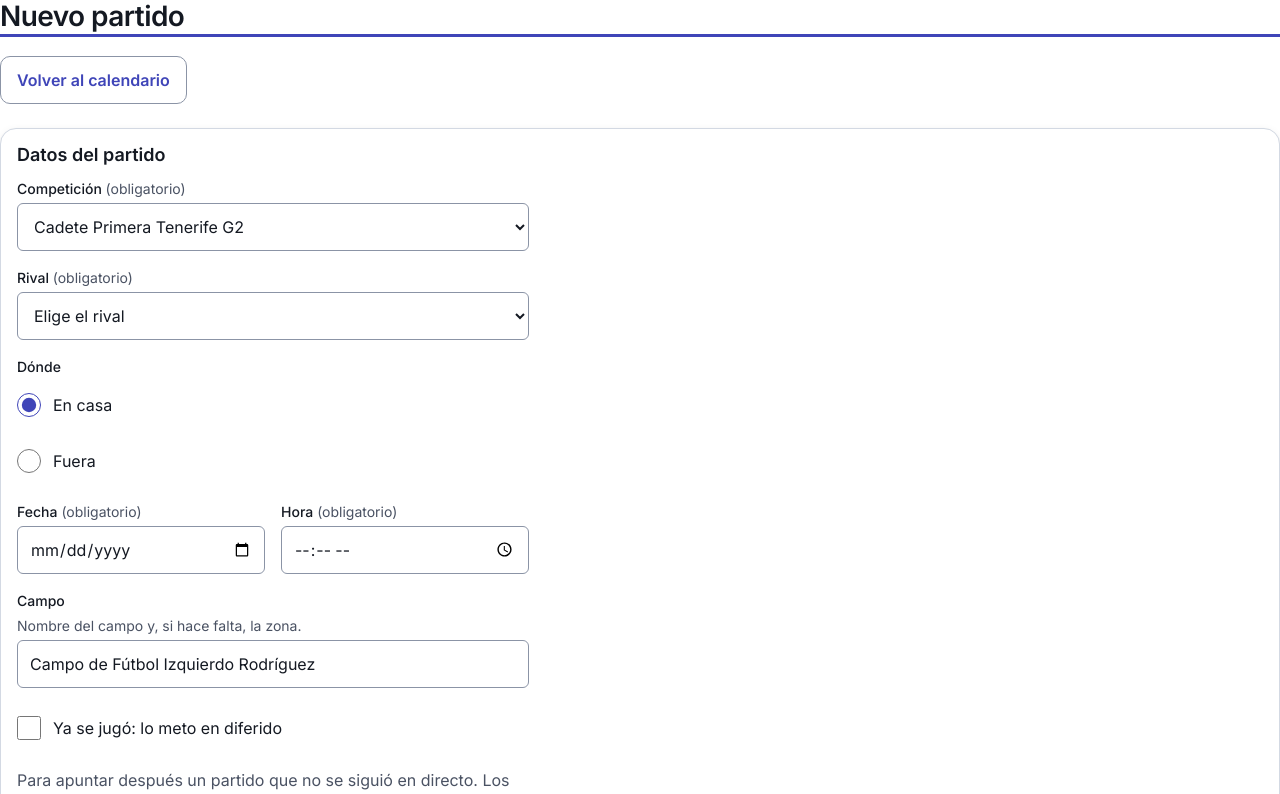
Scenario: A10 · Nuevo partido › con una sola competición ya elegida y el campo de casa del club propuesto
This screenshot has width=1280, height=794.
Expected: the dropdown labelled "Competición (obligatorio)" shows "Cadete Primera Tenerife G2", [17, 203, 529, 251]
Expected: the field labelled "Campo" holds "Campo de Fútbol Izquierdo Rodríguez", [17, 640, 529, 688]
Select "UD Orotava" in the dropdown labelled "Rival (obligatorio)" at (273, 316), box [17, 292, 529, 340]
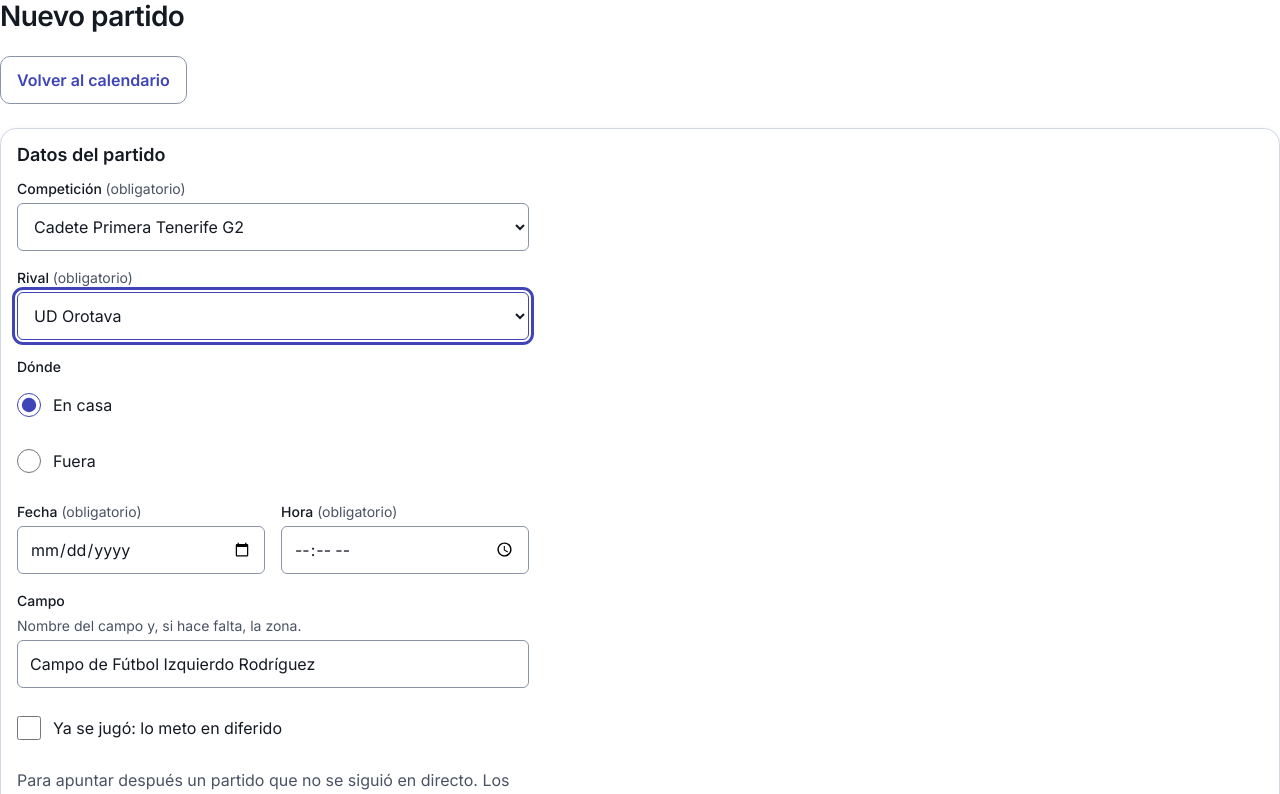
Type "2099-11-08" into the date field labelled "Fecha (obligatorio)".
click(141, 550); type("2099-11-08")  # box [17, 526, 265, 574]
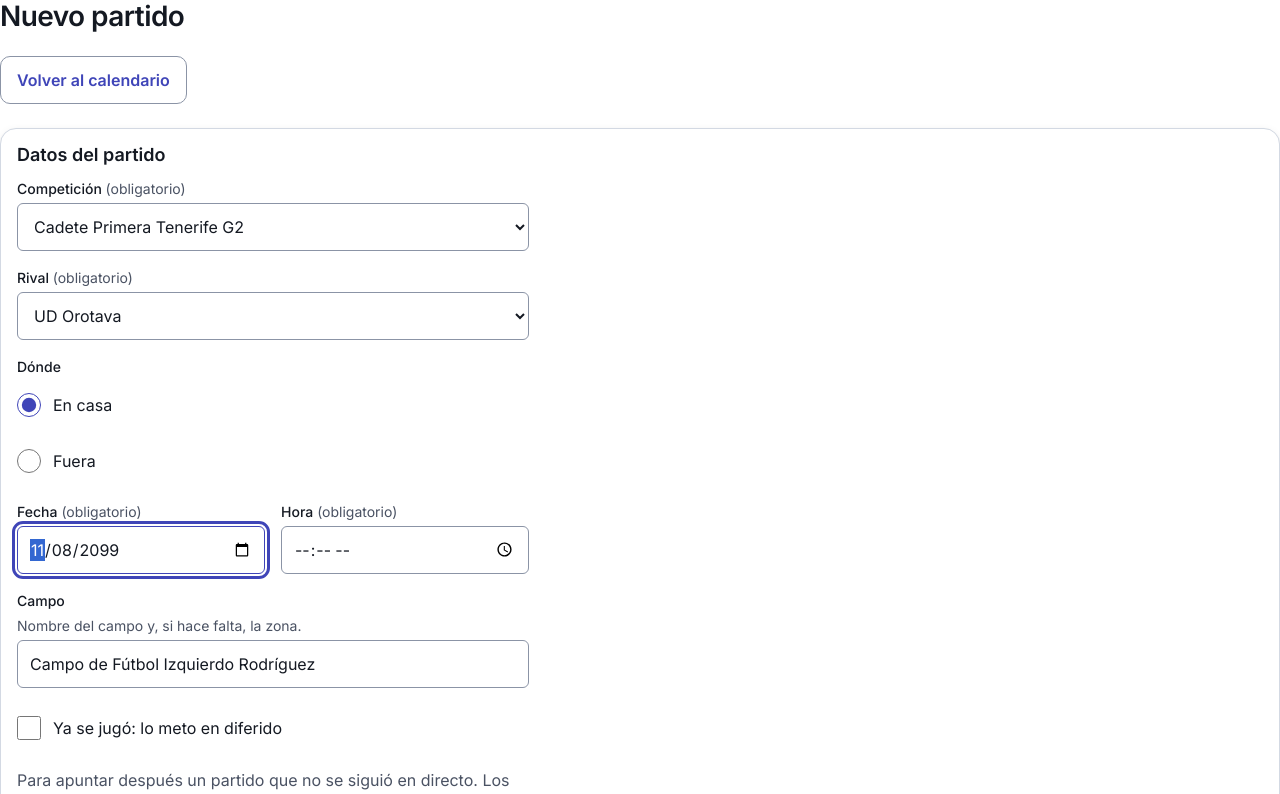
Type "10:00" into the time field labelled "Hora (obligatorio)".
click(405, 550); type("10:00")  # box [281, 526, 529, 574]
(page scrolled)
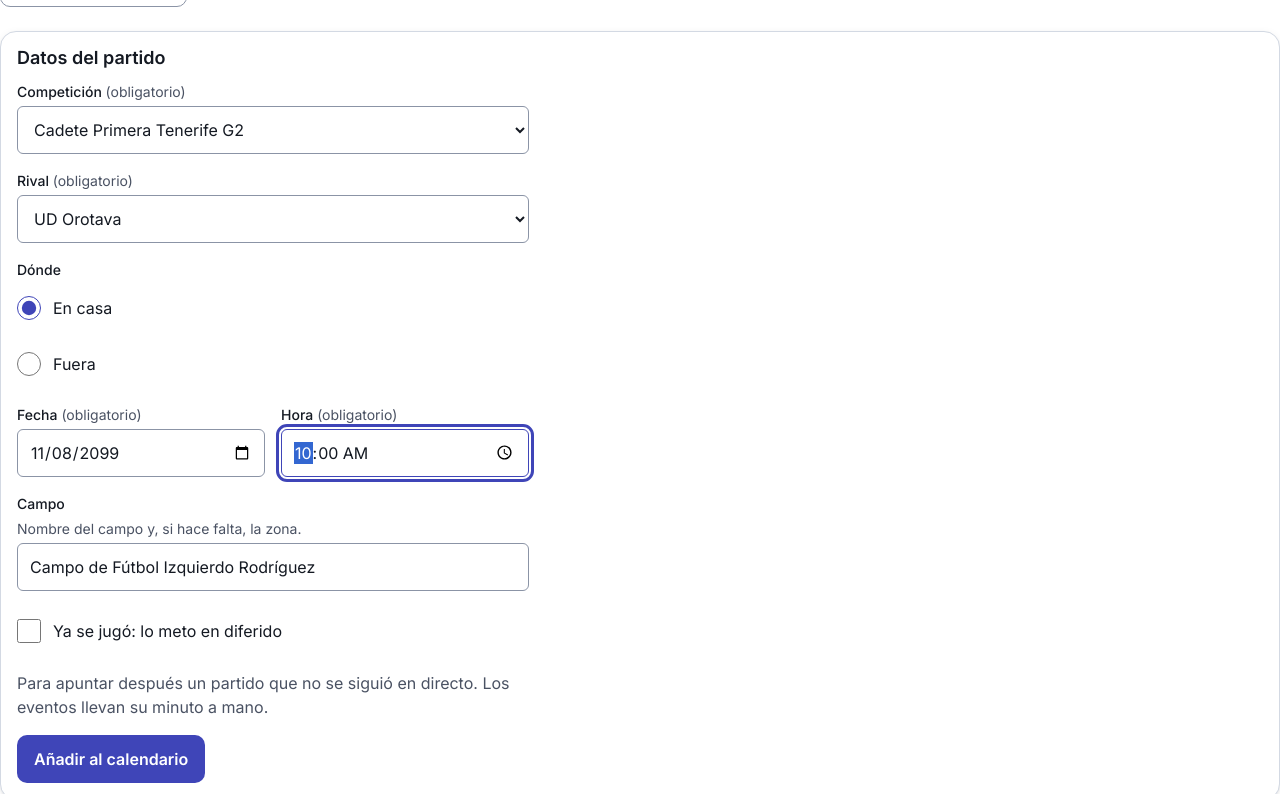
Click the button "Añadir al calendario".
click(111, 759)  # box [17, 735, 205, 783]
(page scrolled)
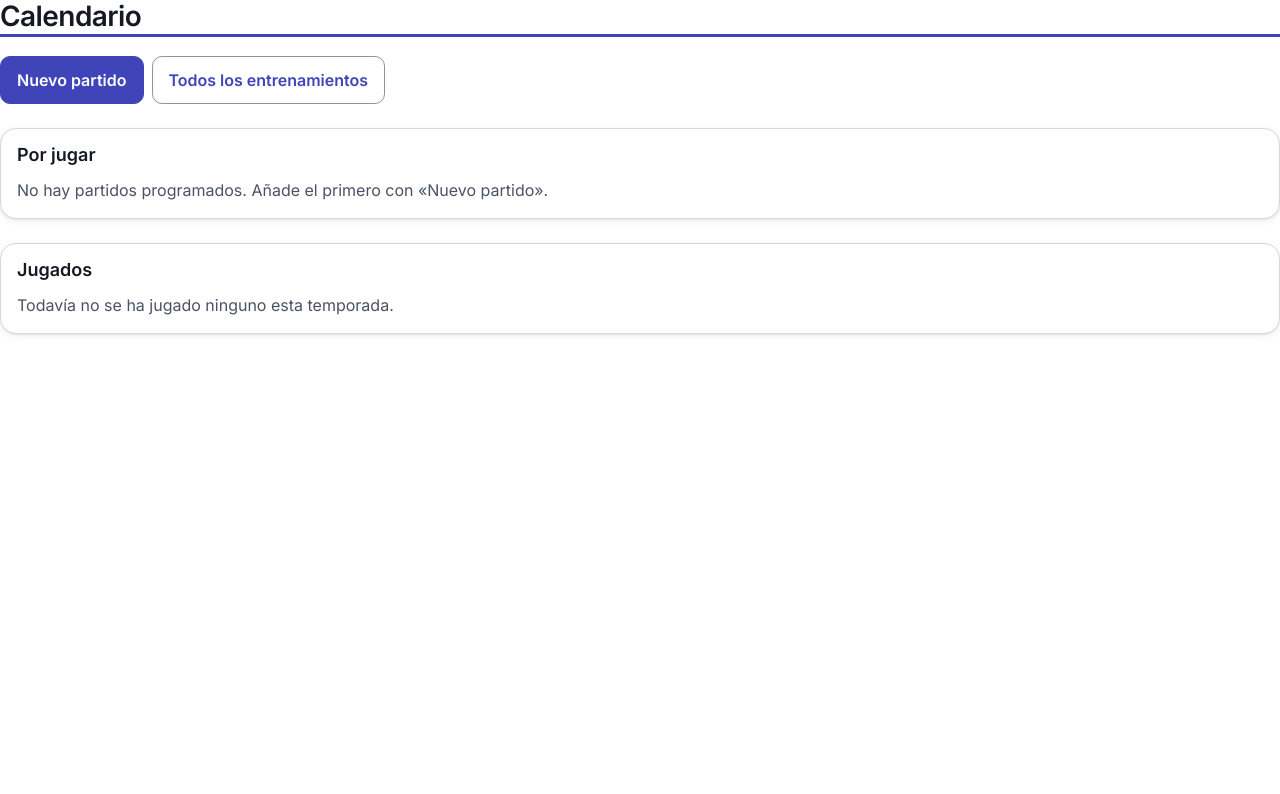
Now the heading "Calendario" is shown, box [0, 0, 141, 33]
